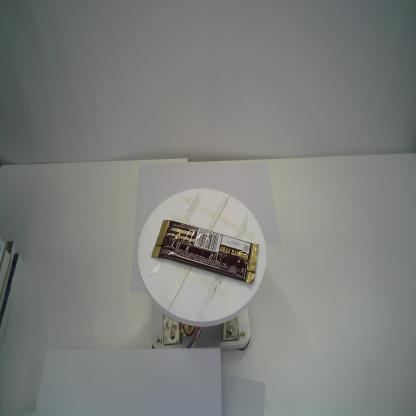Chocolate: (151, 217, 260, 285)
